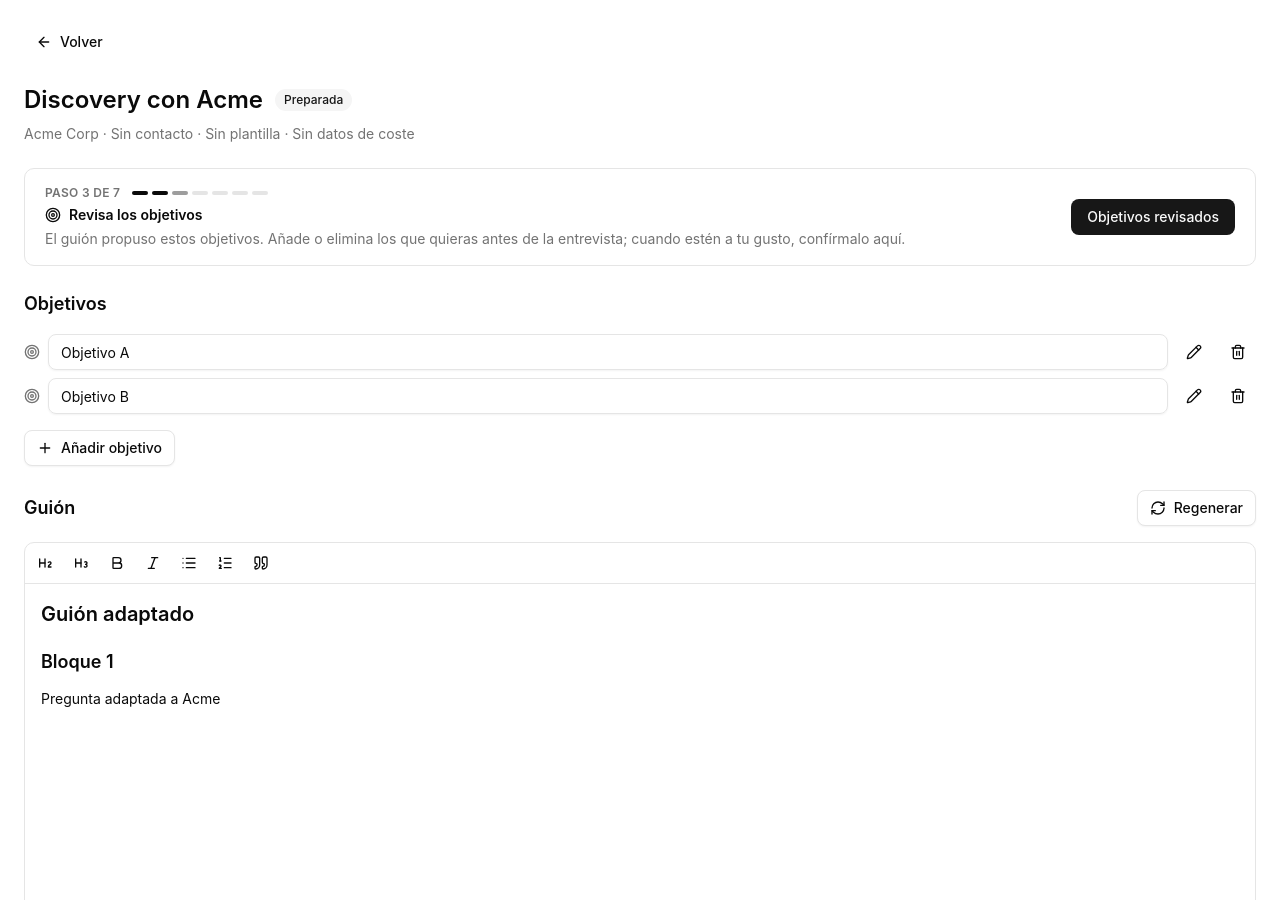
Test: ScriptSection › always-on editing (SPEC-029) › shows the objectives bar for list changes and the script bar for editor changes, hiding each when its draft matches the persisted values
This screenshot has width=1280, height=900.
// Alta de objetivo → barra de la sección Objetivos (no la del guión)
Click the button "Añadir objetivo" at coordinates (100, 448), box [24,430,175,466]
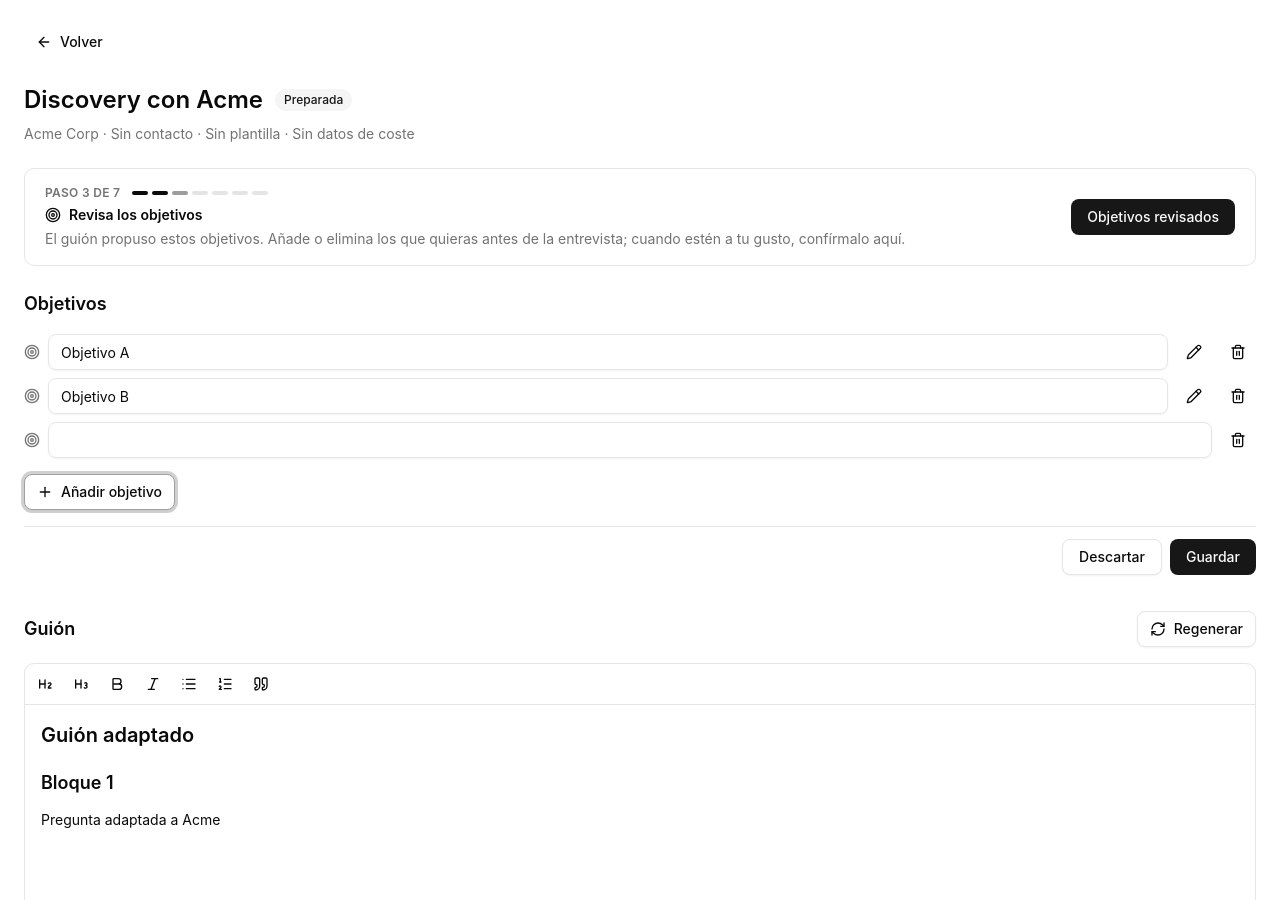
Check: the button "Guardar" is shown, box [1170,539,1256,575]
Check: the button "Descartar" is shown, box [1062,539,1162,575]
// Texto de un objetivo → sigue sucia
Type "Objetivo C" into the field named "Objetivo 3" at coordinates (630, 440), box [48,422,1212,458]
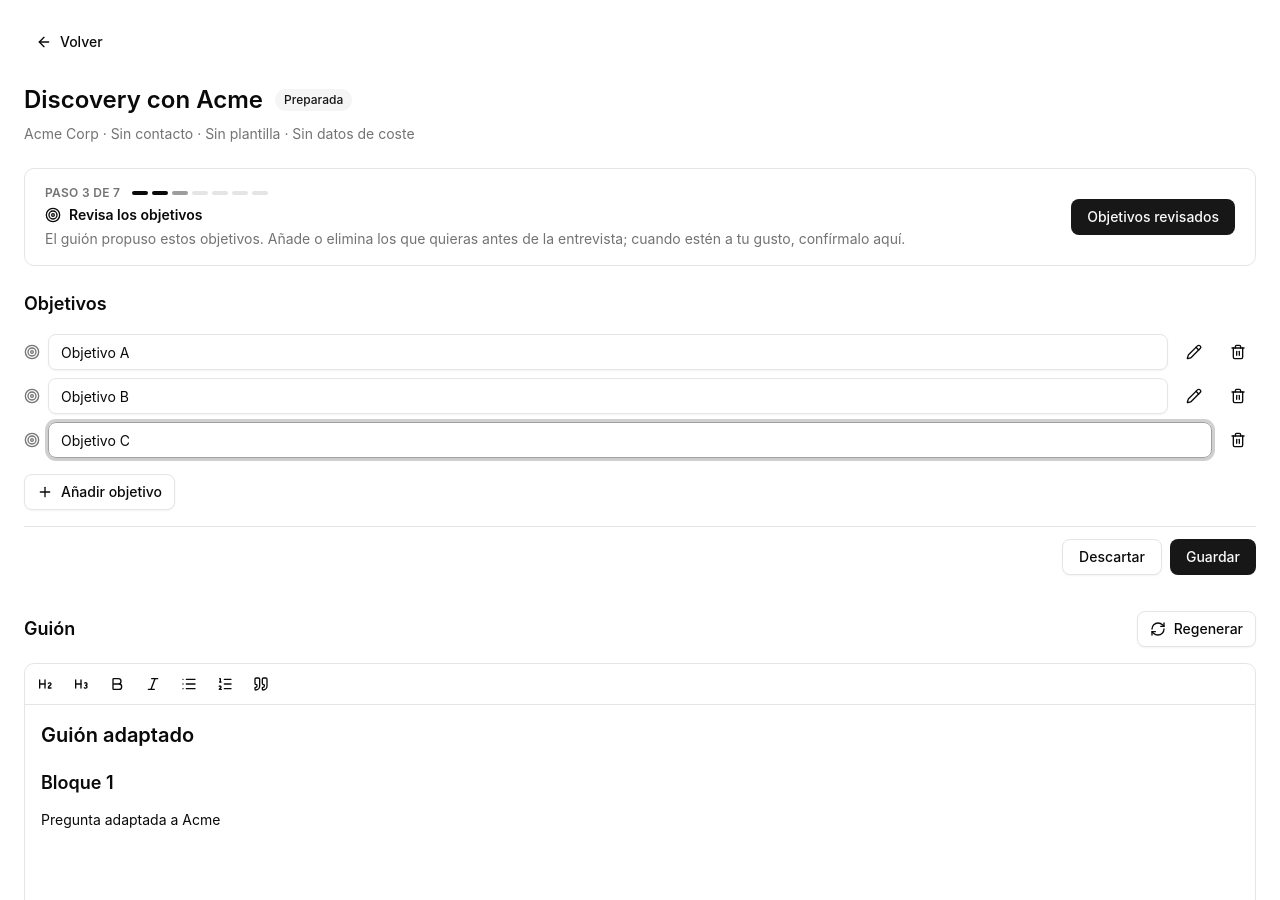
Check: the element with test id "objectives-editor-actions" is shown, box [24,526,1256,587]
// Baja del añadido → la lista iguala la persistida y la barra desaparece
Click the 3rd button named "Eliminar objetivo" at coordinates (1238, 440), box [1220,422,1256,458]
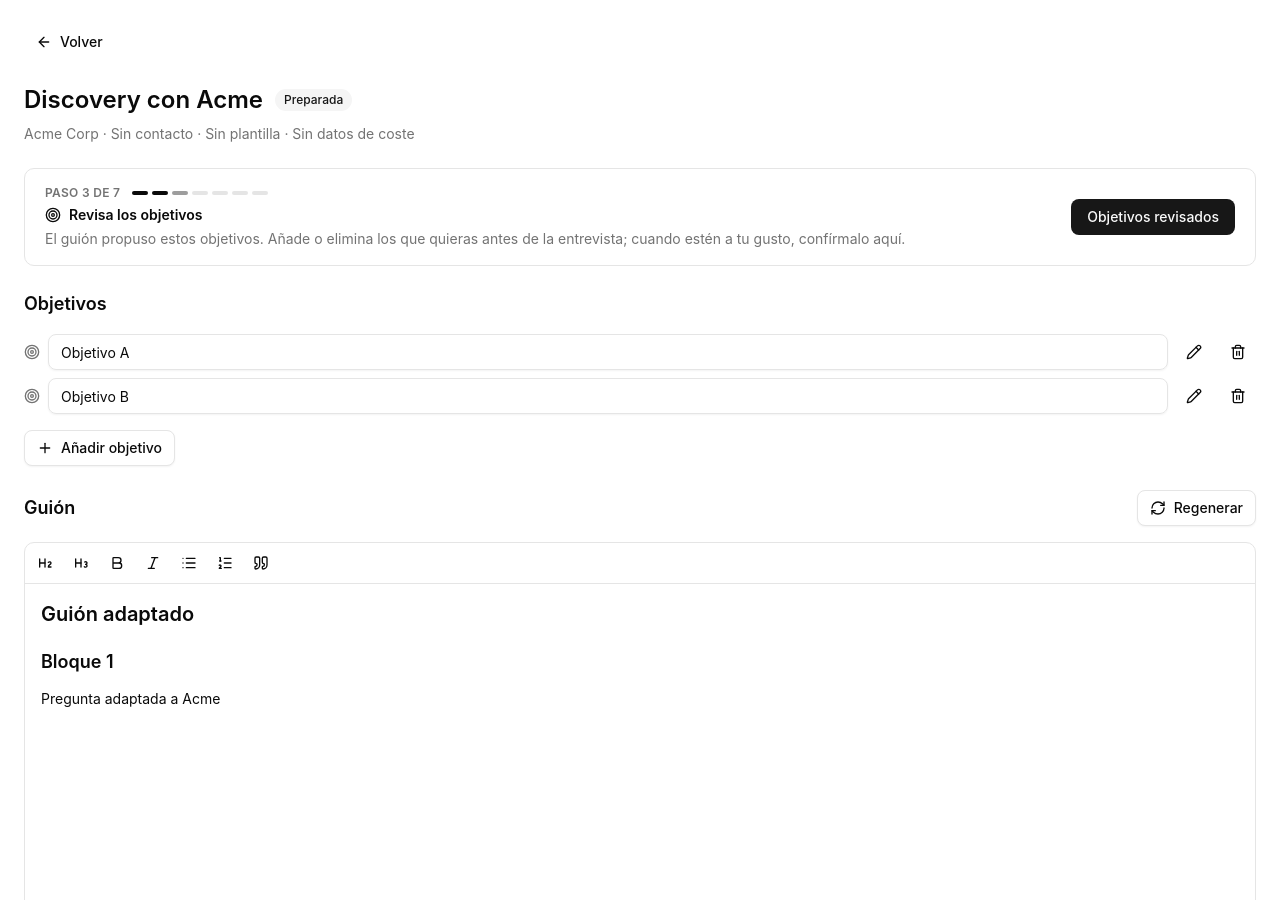
Check: the element with test id "objectives-editor-actions" is gone
// Cambio del texto del guión → aparece SU barra (la de objetivos no)
Click the button named "Encabezado 3" at coordinates (81, 563), box [65,547,97,579]
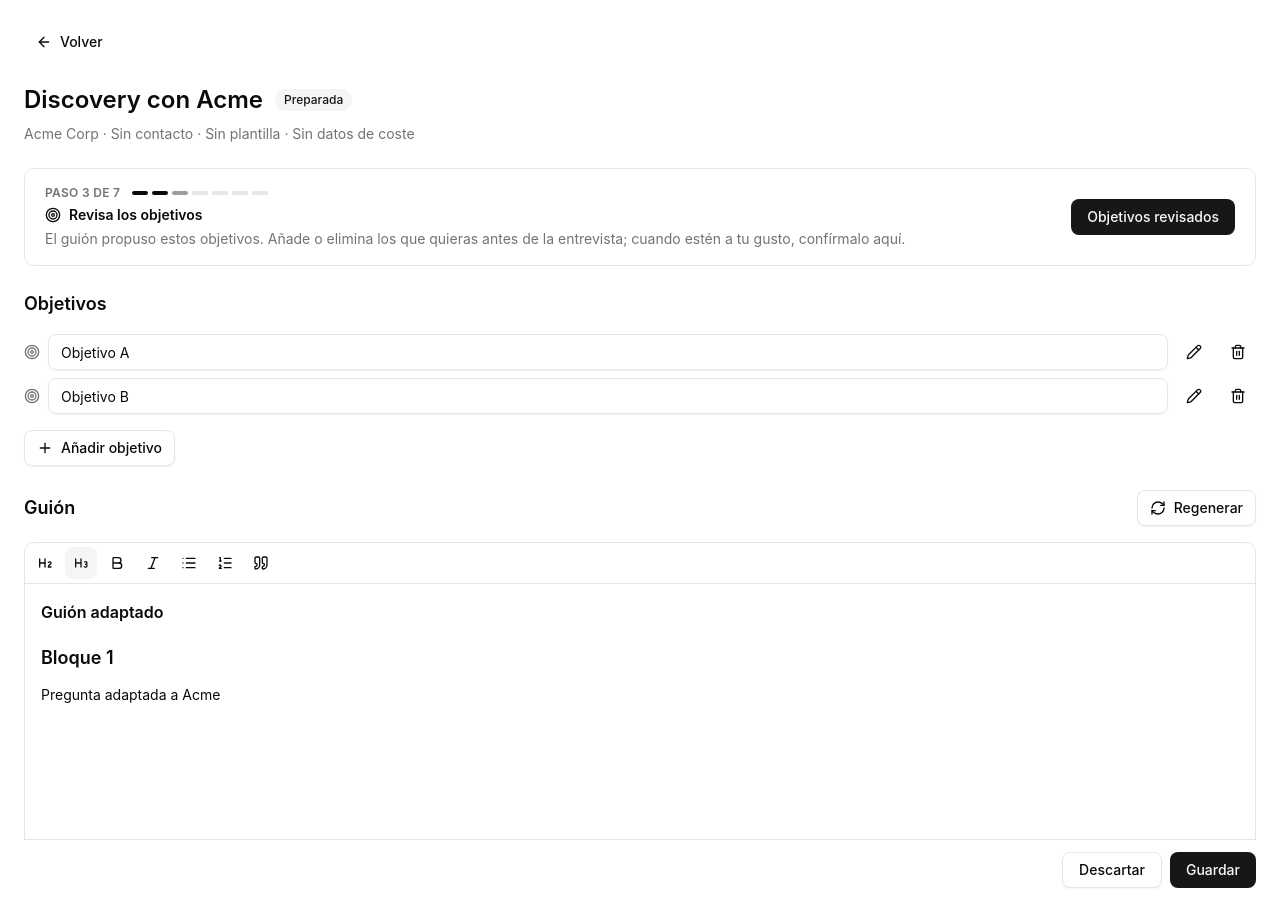
Check: the element with test id "script-editor-actions" is shown, box [24,839,1256,899]
